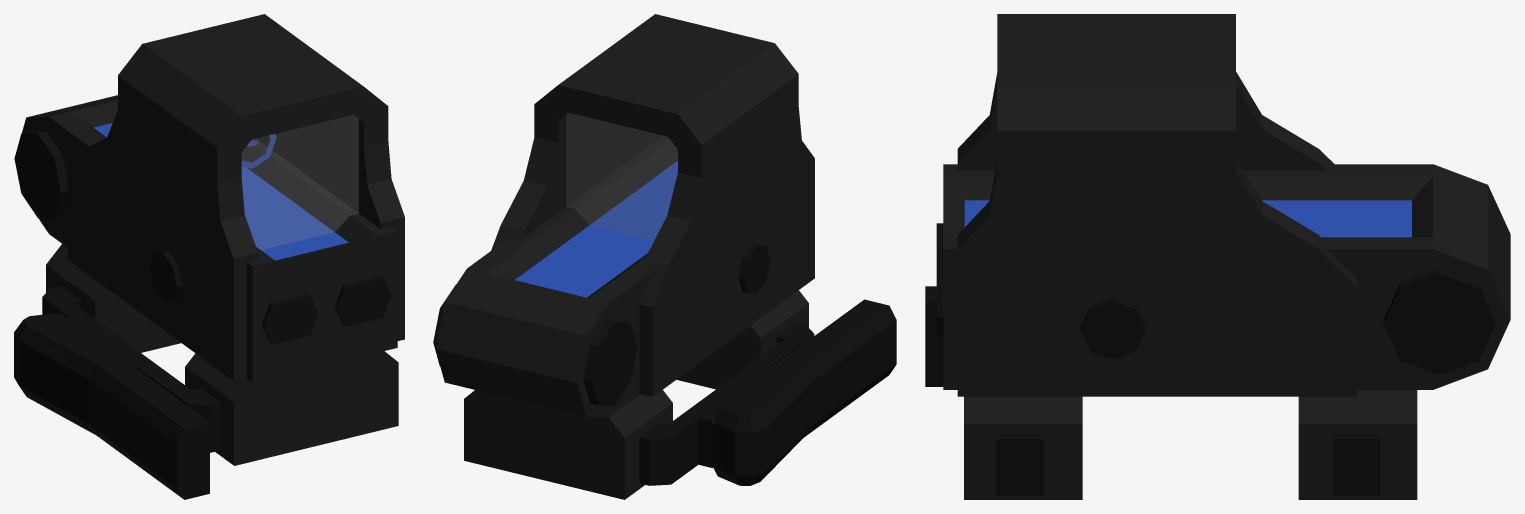
Rendered from Holographic_West.glb.
3 views of the same model, side by side, from view 1: azimuth 30°, elevation 25°; view 2: azimuth 150°, elevation 25°; view 3: azimuth 270°, elevation 25° (orthographic). The views are drawn at different scales.
Parts seen in each view (by area): view 1: Holographic_West; view 2: Holographic_West; view 3: Holographic_West.
Boxes of the visible parts, x1,y1,x2,y2 form: Holographic_West: (14,14,404,499); Holographic_West: (433,14,896,499); Holographic_West: (925,14,1510,499).
Size of the model in its own units: 0.047 by 0.0588 by 0.0762.
